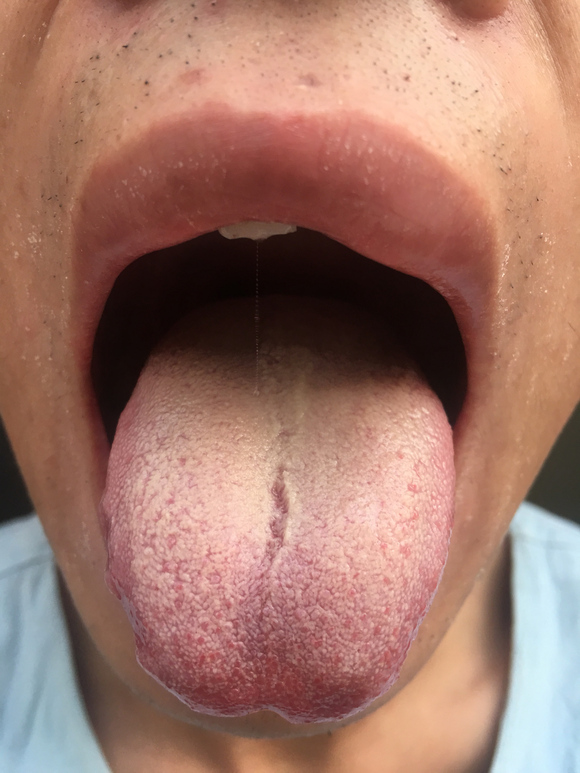baitaishe: (101, 284, 456, 724)
chihenshe: (104, 570, 145, 665)
hongshe: (101, 284, 456, 724)
liewenshe: (258, 463, 291, 563)
